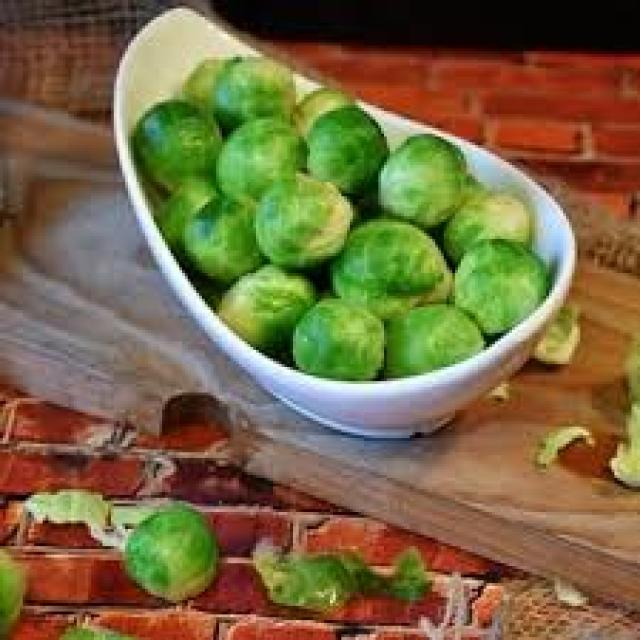choux de bruxelles: (144, 45, 534, 375), (82, 498, 282, 640)
